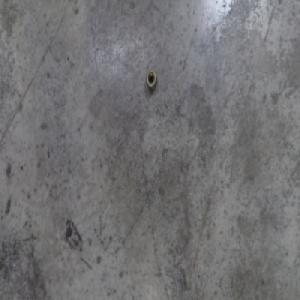Nut: (145, 68, 158, 91)
